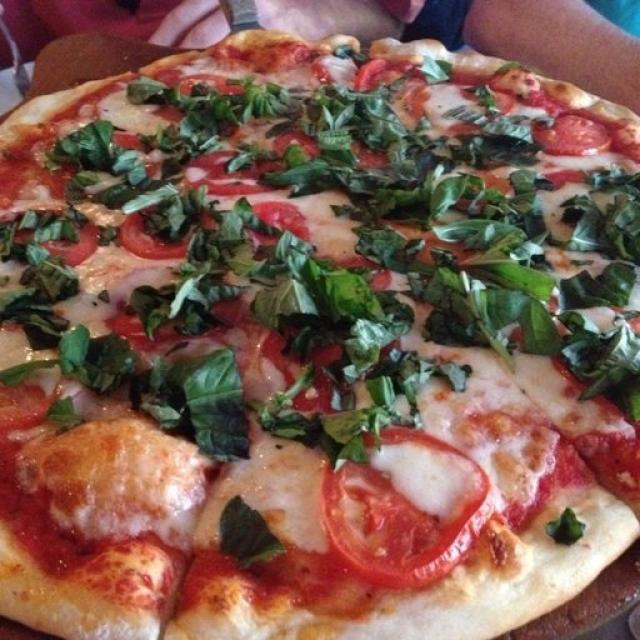Basil: (161, 341, 253, 456), (285, 249, 375, 333), (562, 317, 640, 385), (218, 491, 283, 571), (432, 281, 525, 334), (571, 195, 640, 255), (430, 180, 520, 218), (360, 100, 416, 161), (67, 330, 117, 388), (57, 121, 117, 164), (474, 100, 536, 140), (281, 158, 361, 188), (246, 86, 324, 114), (452, 221, 532, 248), (152, 193, 205, 232), (472, 110, 524, 149), (18, 212, 75, 246), (26, 266, 80, 301), (274, 403, 319, 442), (13, 217, 86, 241), (418, 54, 453, 82), (188, 98, 220, 128), (136, 85, 174, 106)
Pizza: (0, 30, 640, 640)
Tomato: (331, 433, 491, 568), (118, 210, 192, 259), (549, 108, 610, 156), (254, 200, 310, 236), (352, 63, 408, 90), (184, 71, 237, 94)
